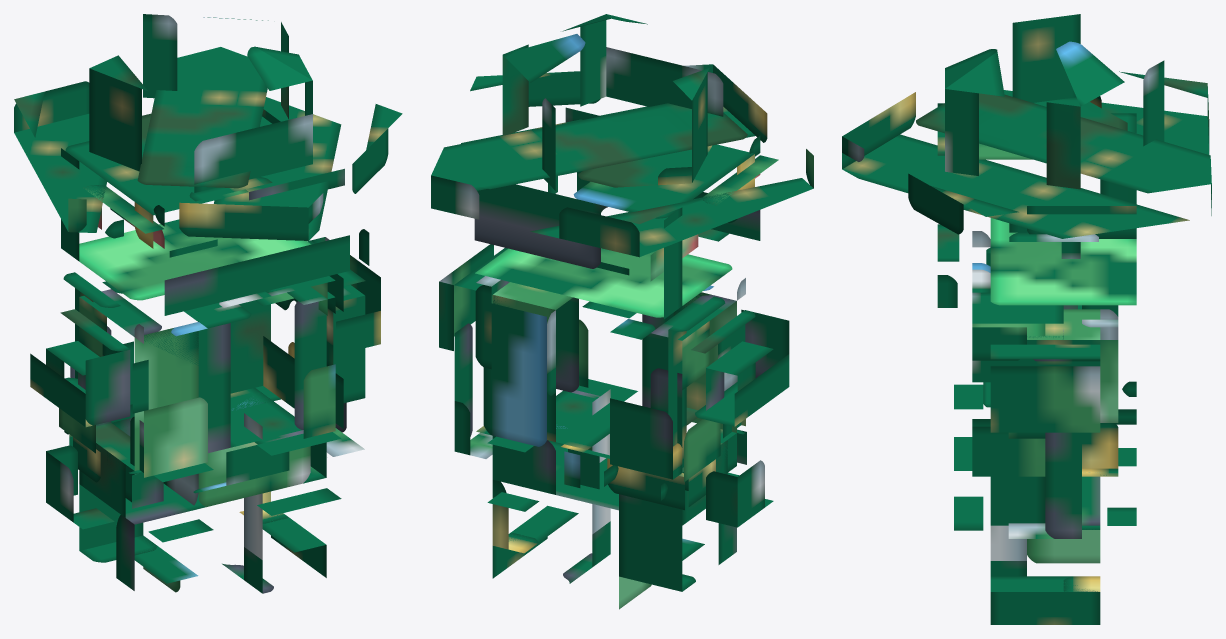
The model's file is player.obj.
The picture shows the model from 3 angles, left to right: view 1: azimuth 30°, elevation 25°; view 2: azimuth 150°, elevation 25°; view 3: azimuth 270°, elevation 25°; orthographic projection.
Parts seen in each view (by area): view 1: hat bottom, hat top, body top, head, back, body bottom, front right, shirt arm right, right, leg right, arm right, left (+11 smaller); view 2: hat bottom, head, hat top, body top, front left, body bottom, shirt arm right, front right, leg right, right, arm right, shirt arm left (+12 smaller); view 3: hat bottom, hat top, head, shirt arm left, left, shoe left, arm left, body bottom, belt pouch left, body top, top left, shoe right (+4 smaller).
Boxes of the visible parts, box(x1,y1,x2,y2) form: hat bottom: box(14, 47, 402, 240); hat top: box(89, 14, 312, 192); body top: box(79, 289, 326, 470); head: box(61, 109, 344, 300); back: box(144, 297, 335, 477); body bottom: box(79, 386, 326, 524); front right: box(70, 177, 349, 404); shirt arm right: box(30, 309, 130, 427); right: box(59, 185, 164, 472); leg right: box(79, 404, 198, 590); arm right: box(46, 341, 114, 529); left: box(98, 208, 369, 428); hat bottom: box(431, 64, 813, 257); head: box(474, 107, 754, 319); hat top: box(502, 14, 723, 190); body top: box(492, 282, 736, 449); front left: box(483, 295, 555, 446); body bottom: box(492, 426, 736, 525); shirt arm right: box(691, 310, 789, 426); front right: box(577, 135, 760, 479); leg right: box(619, 407, 736, 591); right: box(668, 155, 778, 481); arm right: box(706, 341, 773, 527); shirt arm left: box(439, 244, 509, 350); hat bottom: box(842, 71, 1211, 238); hat top: box(945, 14, 1164, 189); head: box(979, 113, 1136, 305); shirt arm left: box(990, 344, 1100, 432); left: box(937, 223, 1118, 476); shoe left: box(990, 561, 1100, 624); arm left: box(1008, 432, 1081, 538); body bottom: box(990, 472, 1100, 525); belt pouch left: box(954, 384, 1136, 530); body top: box(990, 309, 1100, 366); top left: box(972, 292, 1063, 339); shoe right: box(1027, 526, 1100, 563).
Size of the model in its own units: 0.6612 by 1.06 by 0.6324.
